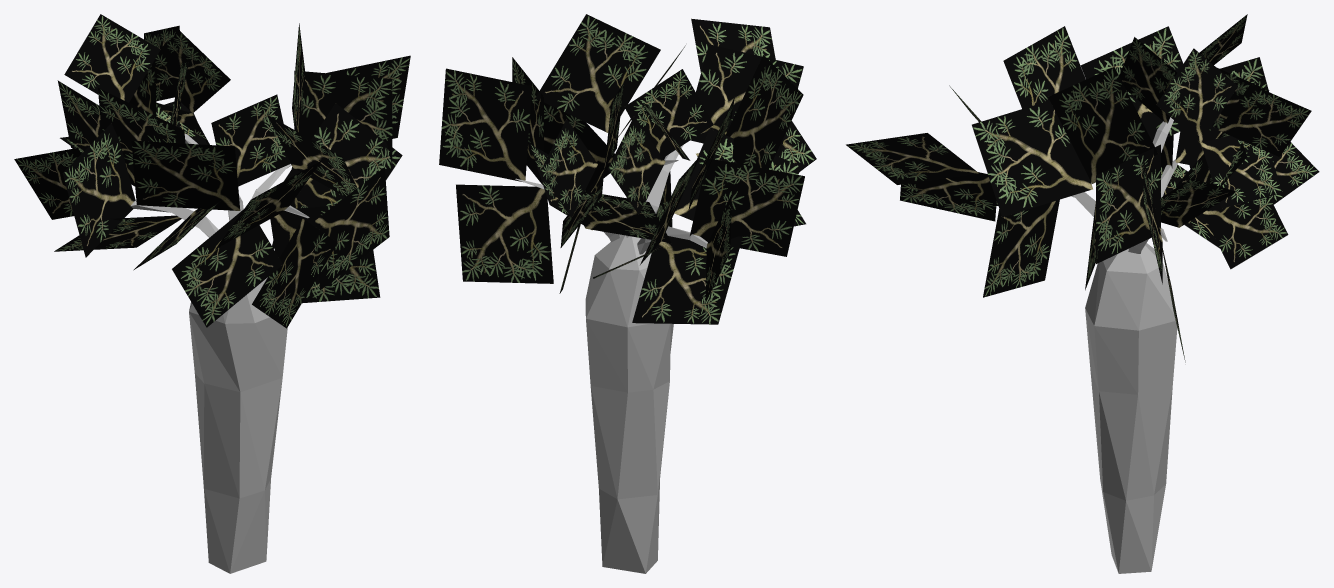
Rendered from pac_2s_LOD1.fbx.
3 views of the same model, side by side, from view 1: azimuth 30°, elevation 25°; view 2: azimuth 150°, elevation 25°; view 3: azimuth 270°, elevation 25° (orthographic). The views are drawn at different scales.
Parts seen in each view (by area): view 1: pac_LOD1; view 2: pac_LOD1; view 3: pac_LOD1.
Part boxes in pixels (x1=…): pac_LOD1: x1=14, y1=14, x2=410, y2=573; pac_LOD1: x1=439, y1=14, x2=816, y2=573; pac_LOD1: x1=846, y1=14, x2=1319, y2=573.
Bounding box in the file's own units: 621 × 892 × 735.
